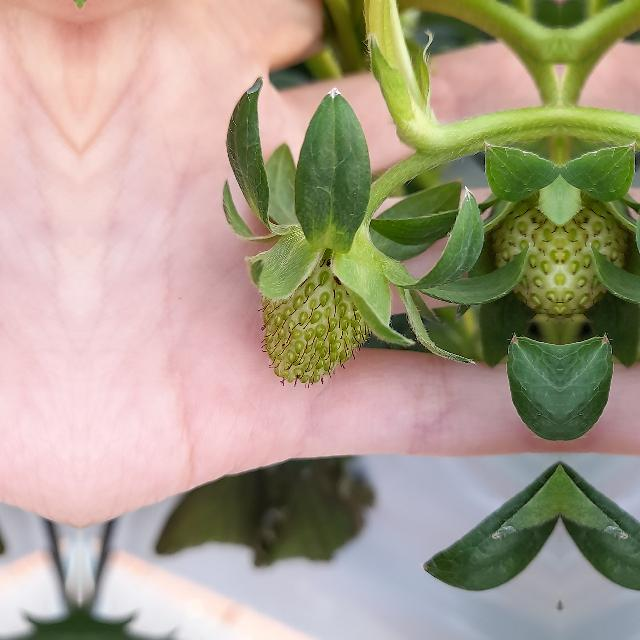Health_25: (254, 232, 392, 388), (496, 183, 560, 323), (560, 183, 624, 323)
